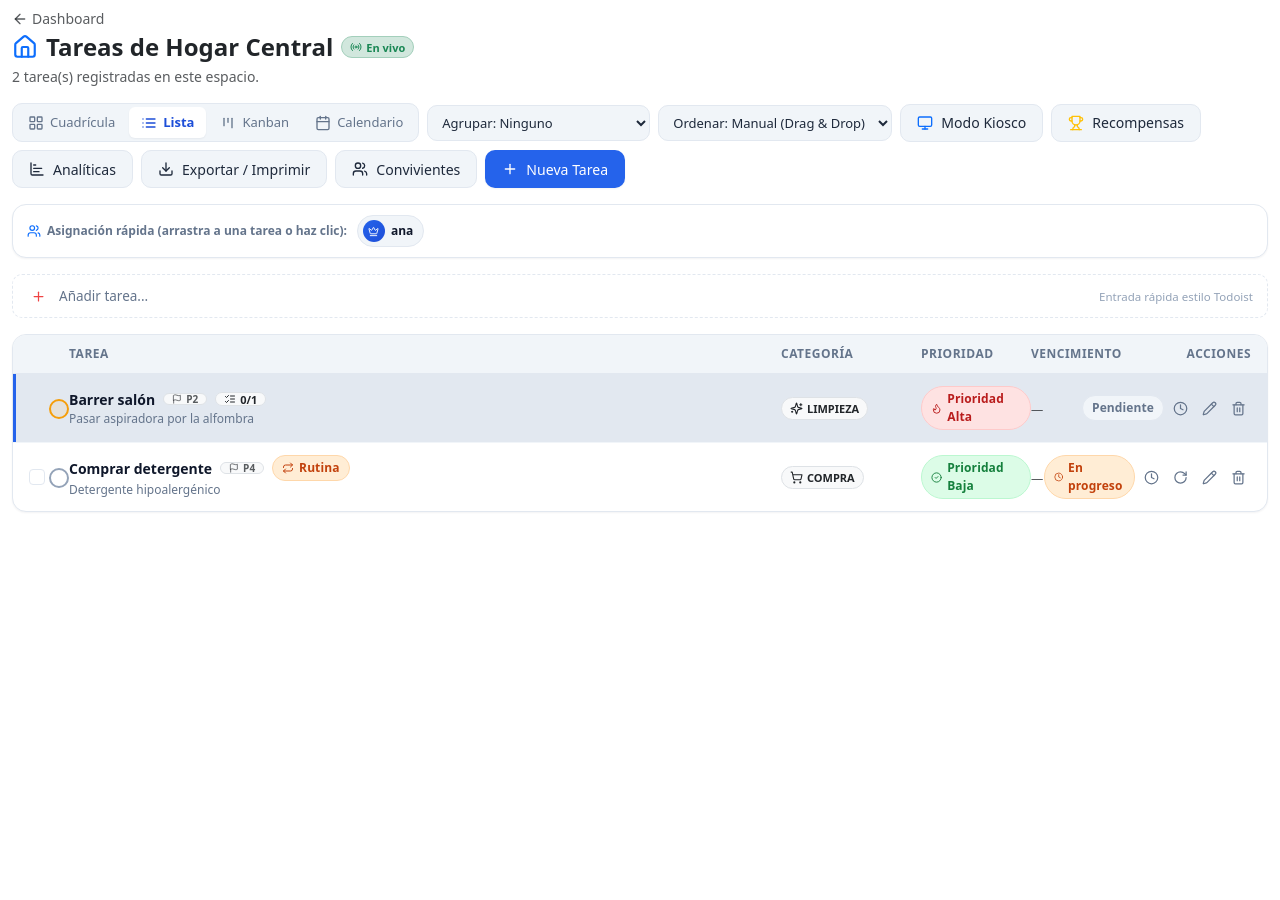
Scenario: RoomTasks — Integración con useTasksState, Vista Lista Todoist y Eventos SSE › renderiza las tareas del hogar en TaskListView y soporta atajos de teclado de prioridad (1-4), completado optimista y avance de ciclo recurrente
Press 1 in the row with test id "task-item-rt-1", box 13,374 -> 1267,443
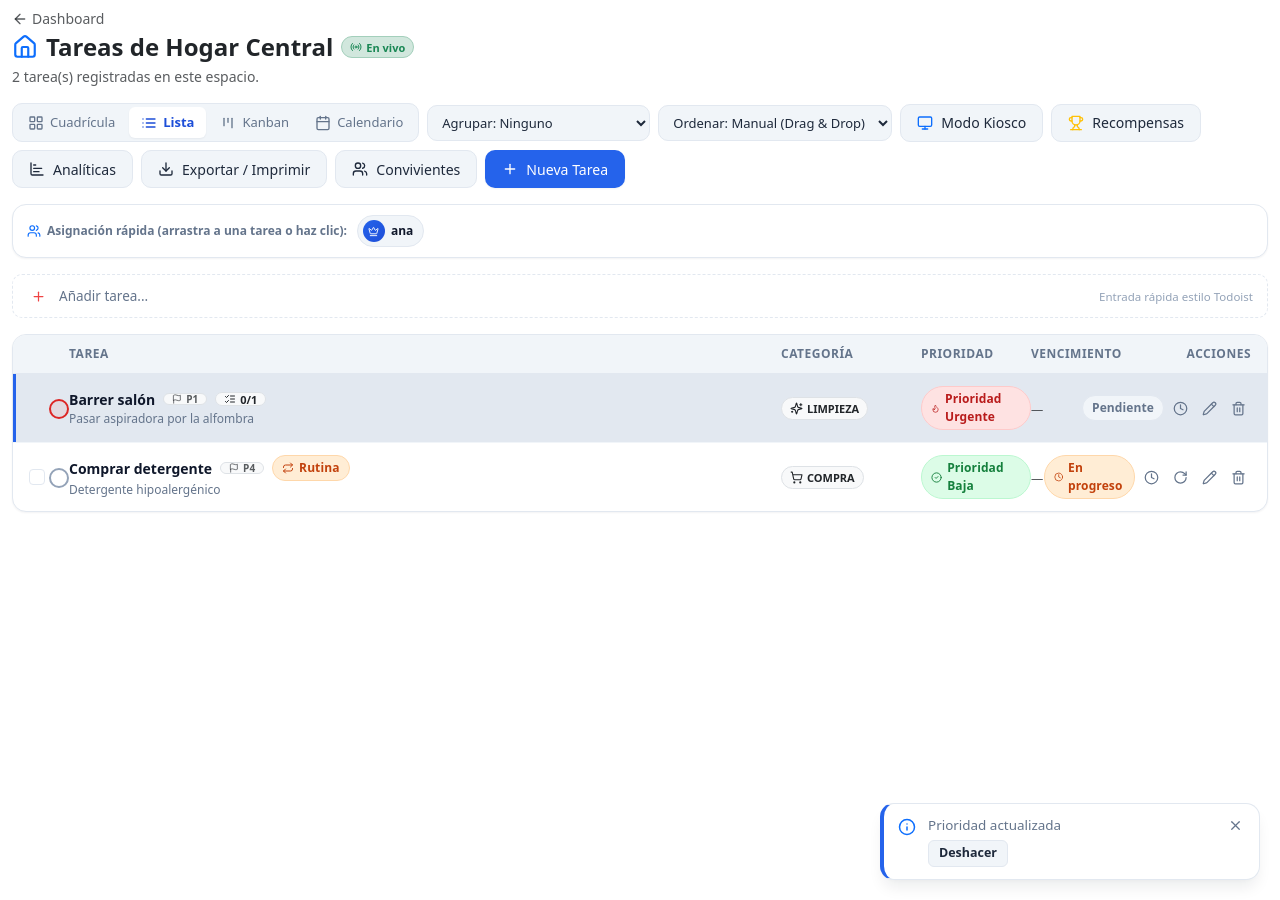
Expected: the row with test id "task-item-rt-1" has attribute data-priority="p1"
Press Space in the row with test id "task-item-rt-1", box 13,374 -> 1267,443
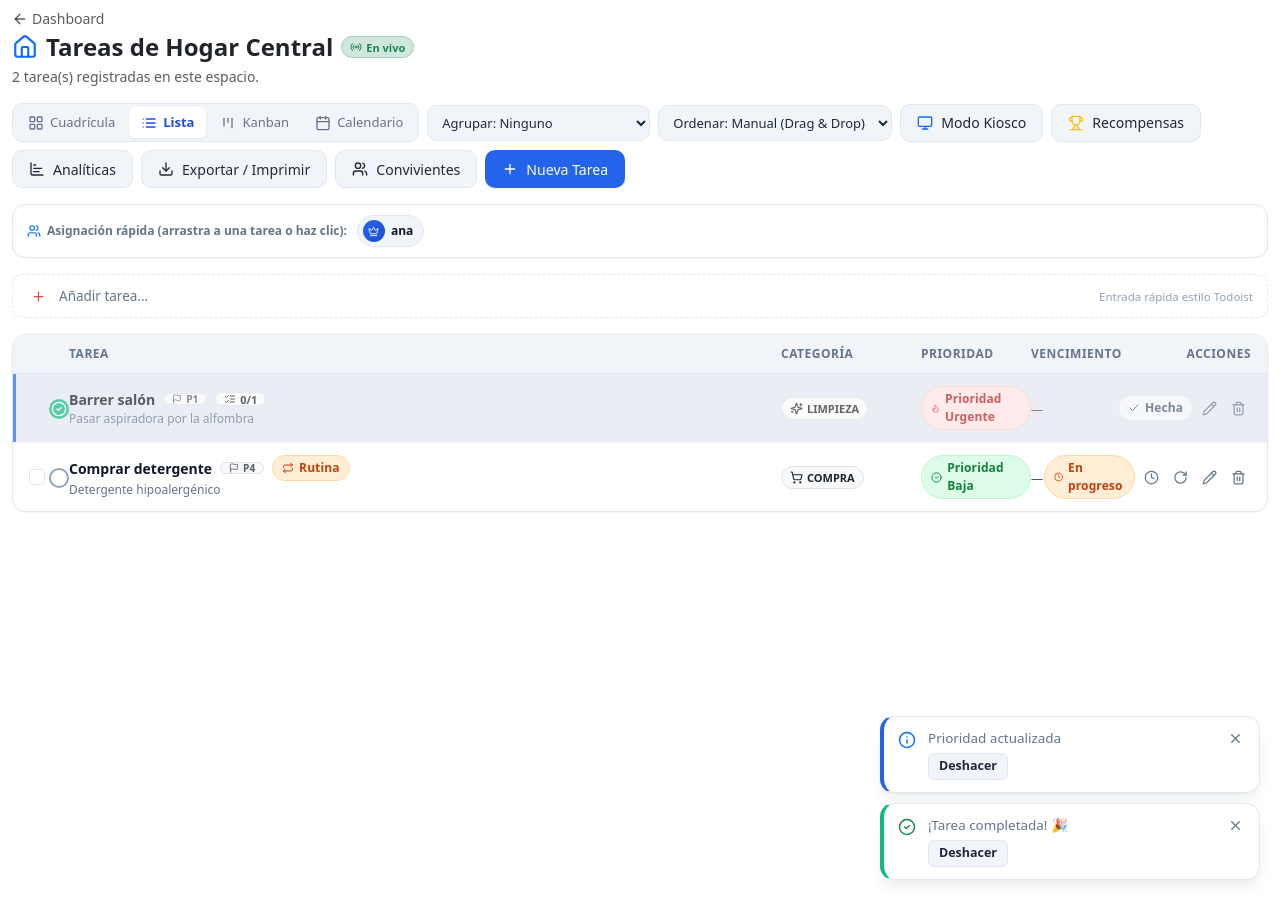
Click the button with test id "task-item-advance-btn-rt-2" at (1180, 477), box 1168,465 -> 1193,490
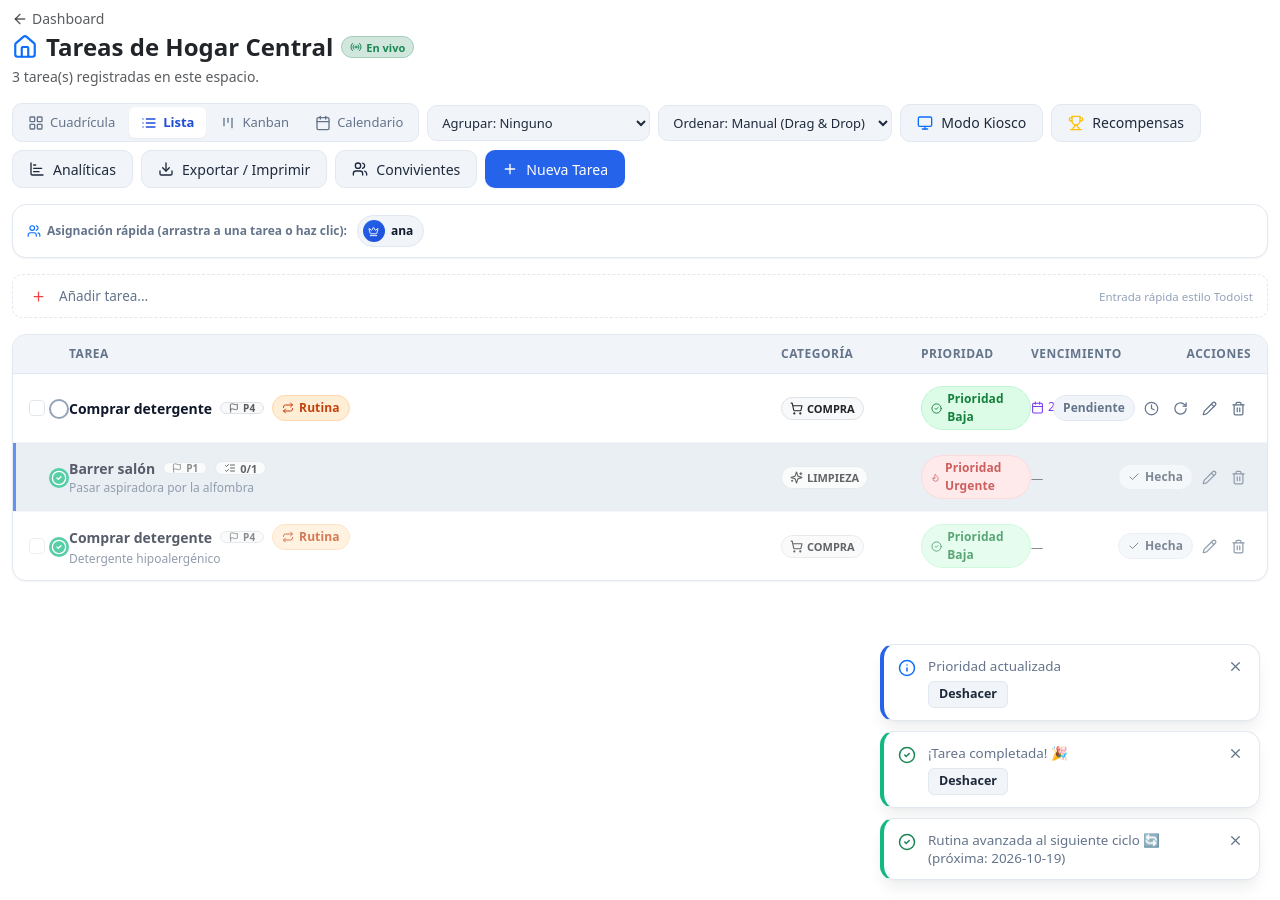
Expected: the row with test id "task-item-rt-2-next" is shown, 13,374 -> 1267,443
